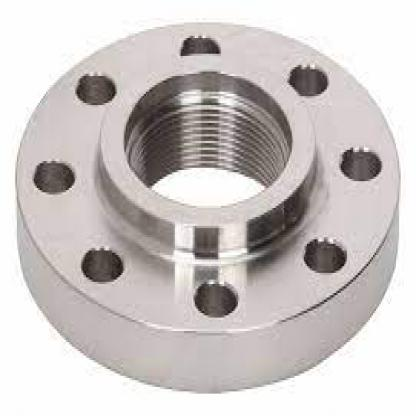FOD: (5, 6, 411, 406)
